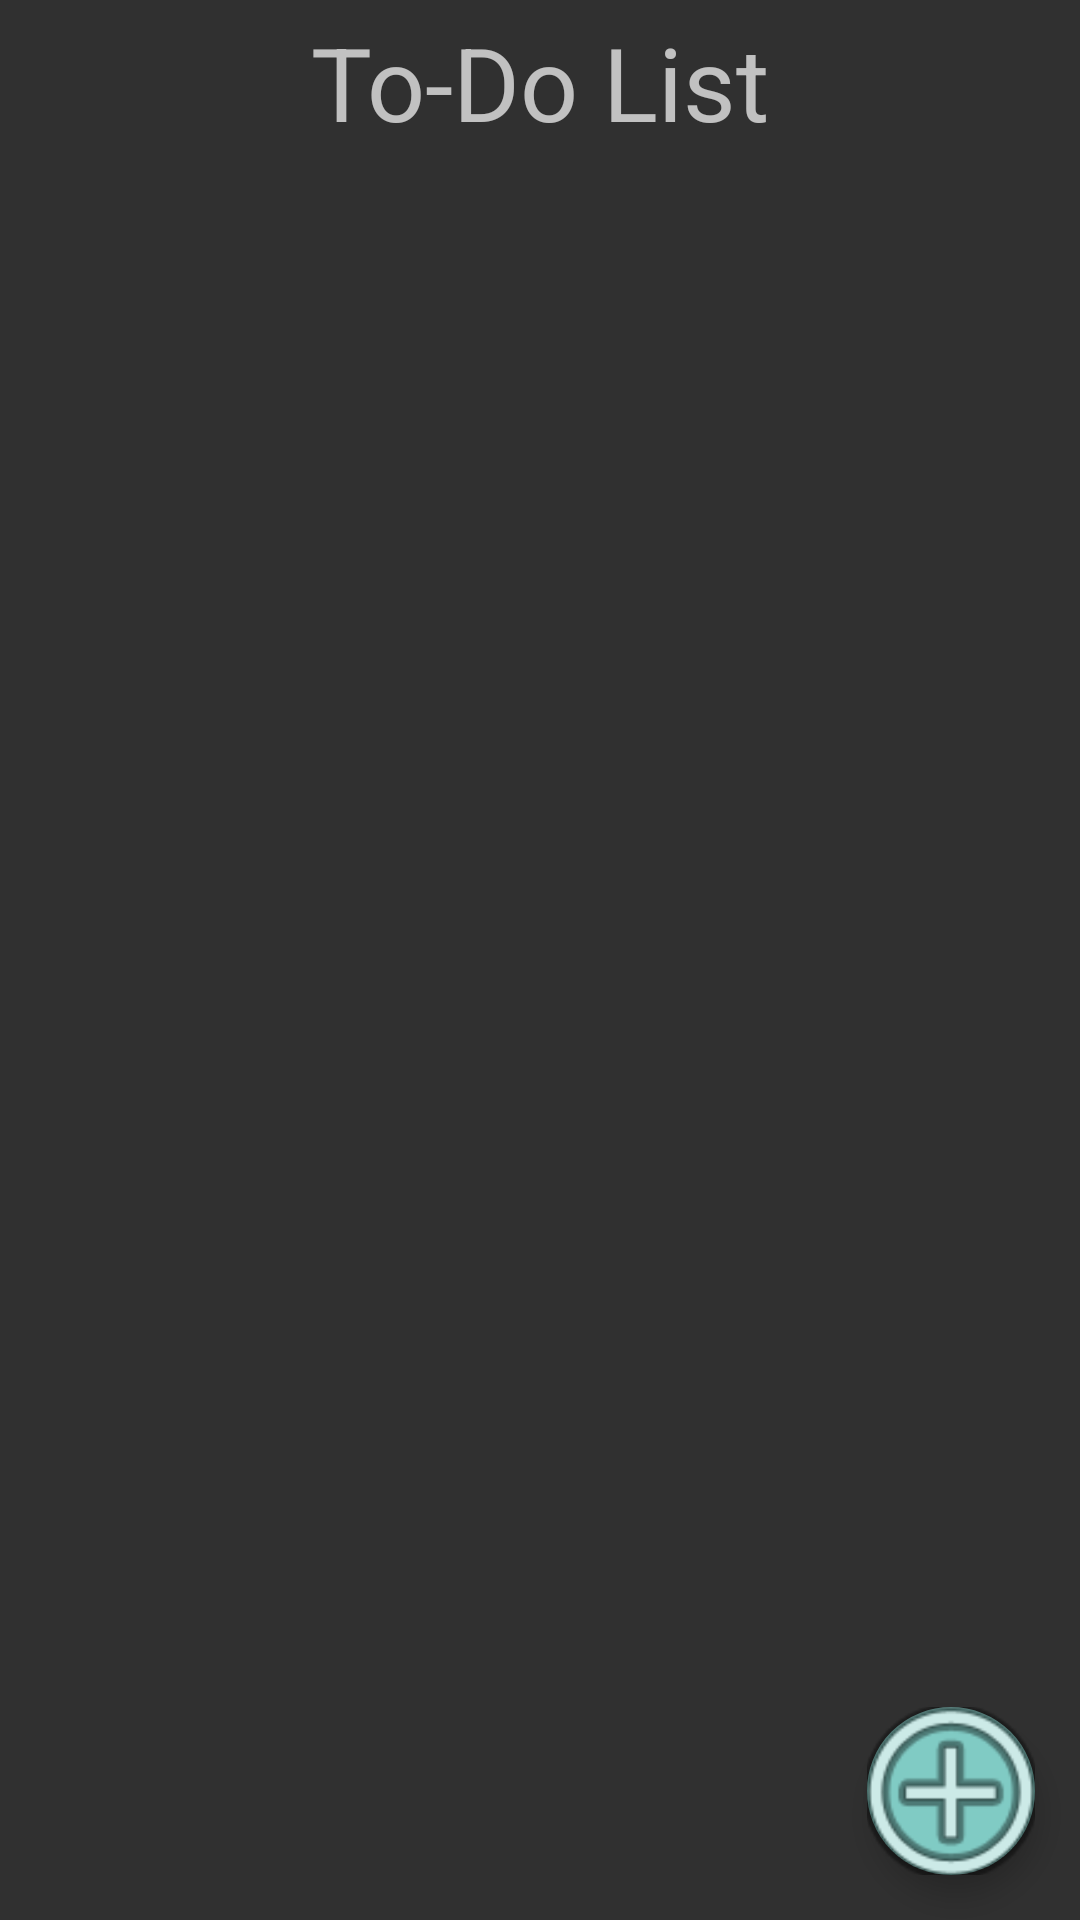

Icons on this 1080w x 1920h Android screen, each with its box as (x1, y1, x2, y2):
Dodawanie wydarzenia do listy: (867, 1707, 1035, 1875)
